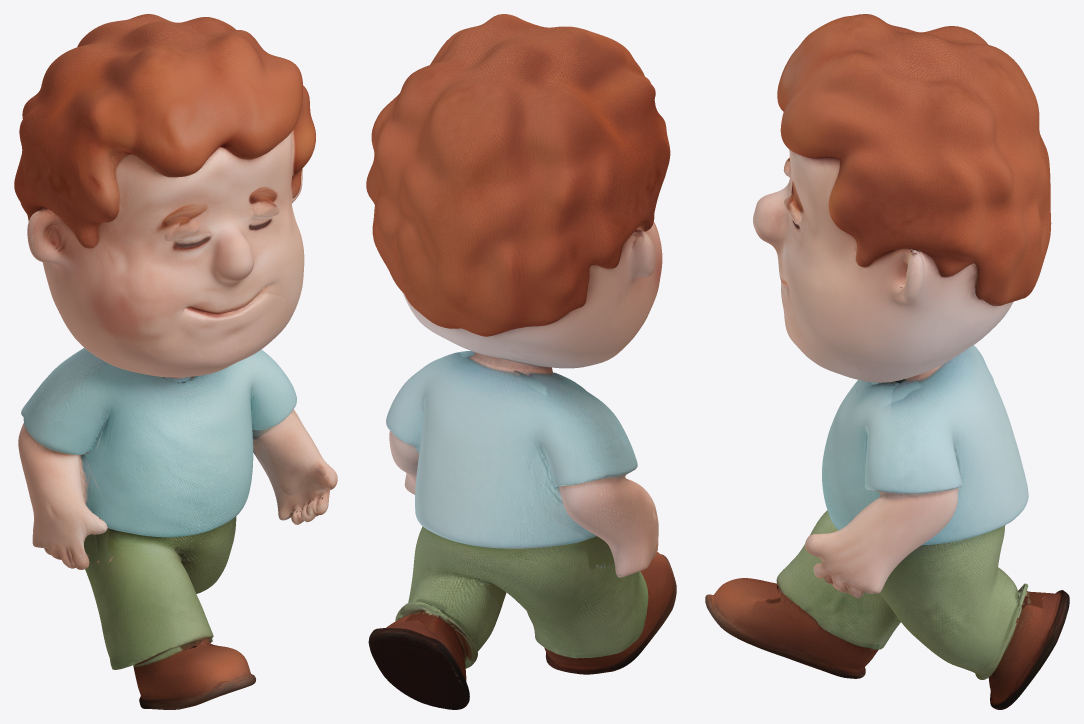
File: NiñoEscuela2.glb
3 renders of one model, left to right at view 1: azimuth 30°, elevation 25°; view 2: azimuth 150°, elevation 25°; view 3: azimuth 270°, elevation 25°, orthographic.
Parts seen in each view (by area): view 1: model; view 2: model; view 3: model.
Part boxes in pixels (box(x1,y1,x2,y2)): model: box(14, 14, 337, 709); model: box(366, 14, 676, 709); model: box(705, 14, 1069, 709).
Size of the model in its own units: 0.8463 by 1.9 by 0.9627.
Materials: 1 (1 with a texture image).
